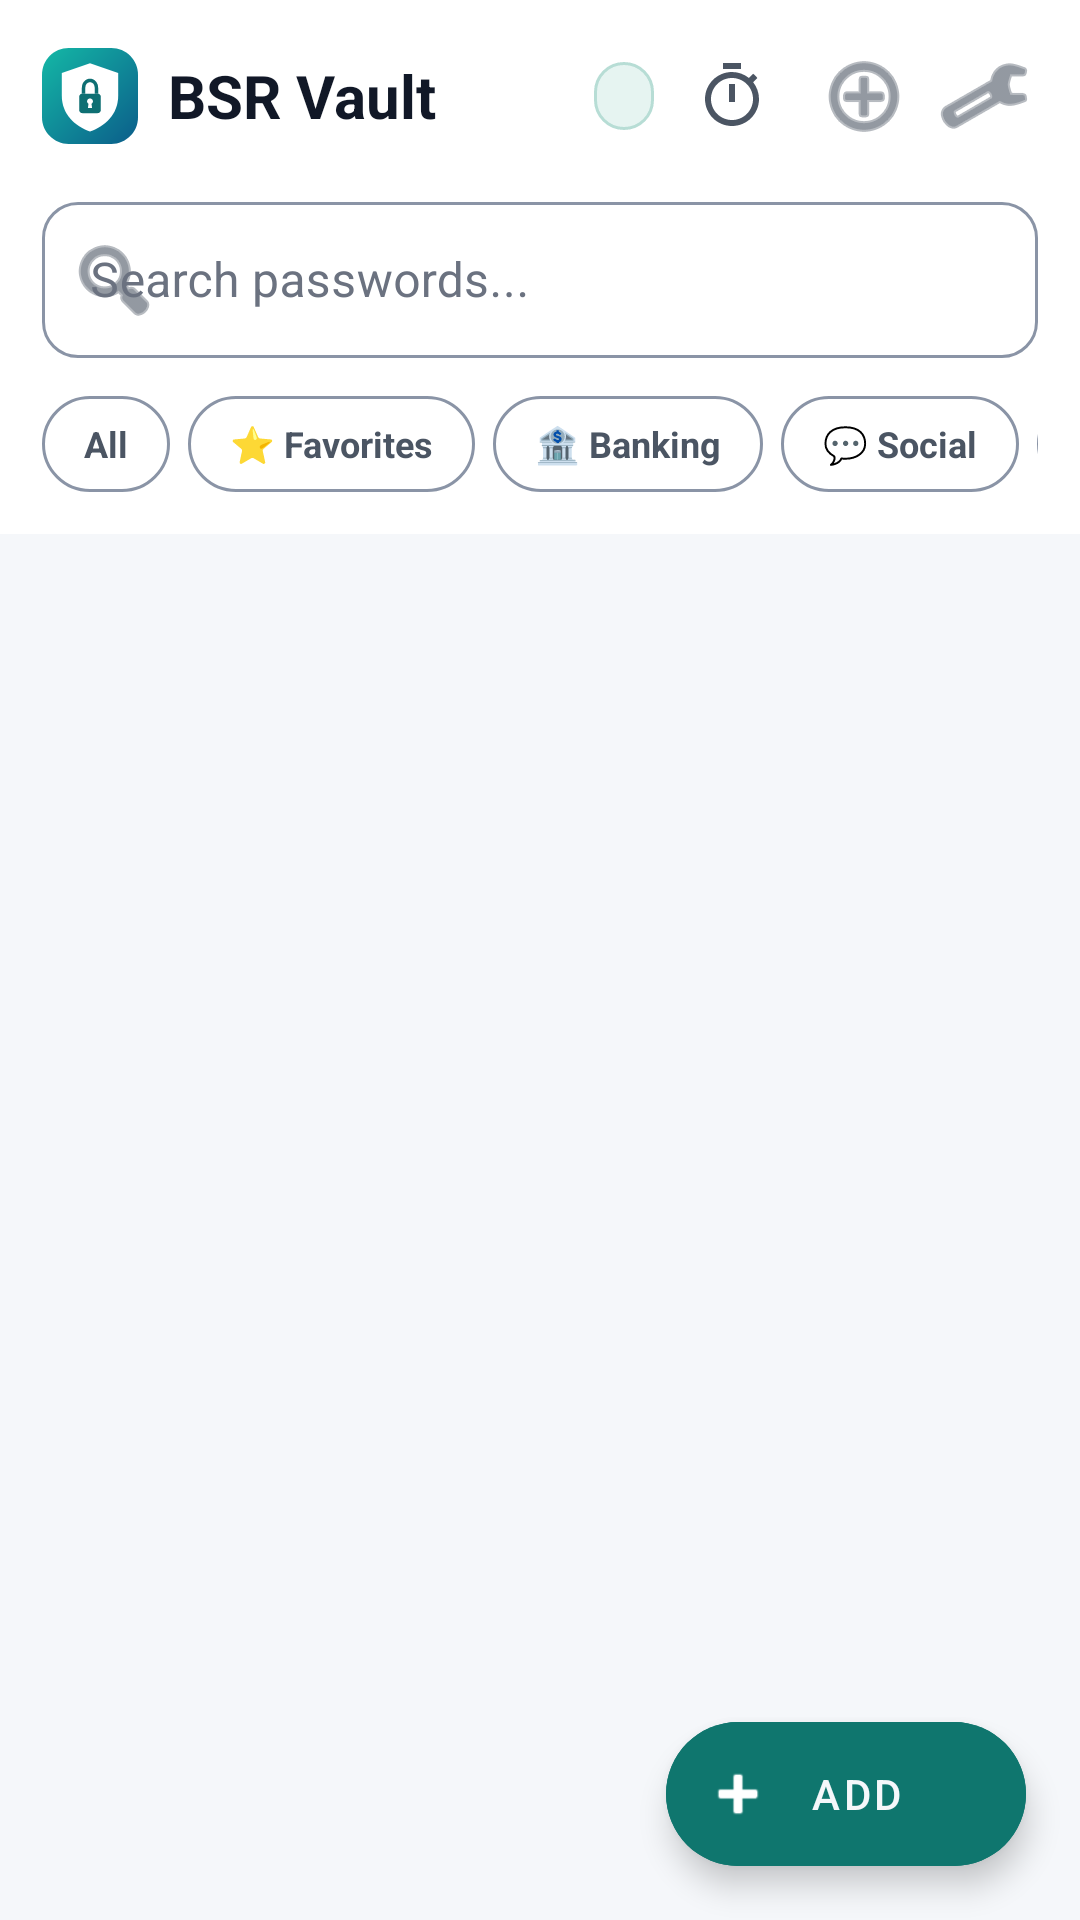

Icon bounding boxes for this 1080w x 1920h phone screenshot, format (x1, y1, x2, y2):
add: (829, 61, 899, 132)
preferences: (941, 63, 1027, 129)
